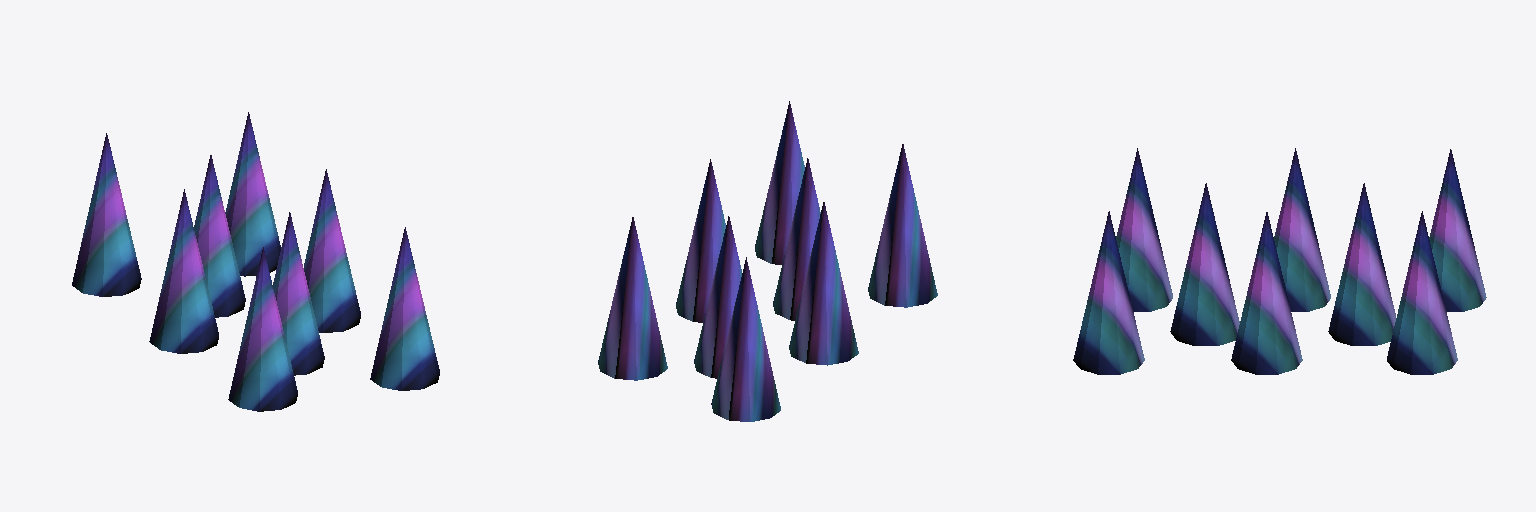
3 views of the same model, side by side, from view 1: azimuth 30°, elevation 25°; view 2: azimuth 150°, elevation 25°; view 3: azimuth 270°, elevation 25° (orthographic).
Parts seen in each view (by area): view 1: Spike.001, Spike.006, Spike.007, Spike.003, Spike.002, Spike.004, Spike, Spike.005; view 2: Spike.003, Spike.001, Spike.004, Spike.006, Spike.007, Spike.002, Spike, Spike.005; view 3: Spike.007, Spike.002, Spike.004, Spike.005, Spike, Spike.001, Spike.003, Spike.006.
Boxes of the visible parts, x1=… form: Spike.001: x1=149, y1=189, x2=218, y2=353; Spike.006: x1=228, y1=247, x2=297, y2=411; Spike.007: x1=370, y1=227, x2=439, y2=390; Spike.003: x1=72, y1=133, x2=141, y2=296; Spike.002: x1=304, y1=169, x2=360, y2=332; Spike.004: x1=225, y1=112, x2=280, y2=276; Spike: x1=194, y1=155, x2=245, y2=317; Spike.005: x1=273, y1=212, x2=324, y2=375; Spike.003: x1=711, y1=257, x2=780, y2=421; Spike.001: x1=789, y1=202, x2=858, y2=365; Spike.004: x1=598, y1=217, x2=667, y2=380; Spike.006: x1=868, y1=144, x2=937, y2=307; Spike.007: x1=755, y1=101, x2=804, y2=264; Spike.002: x1=676, y1=159, x2=725, y2=322; Spike: x1=694, y1=216, x2=741, y2=378; Spike.005: x1=773, y1=158, x2=820, y2=320; Spike.007: x1=1073, y1=211, x2=1144, y2=374; Spike.002: x1=1231, y1=212, x2=1302, y2=374; Spike.004: x1=1387, y1=211, x2=1457, y2=374; Spike.005: x1=1170, y1=183, x2=1239, y2=345; Spike: x1=1328, y1=183, x2=1395, y2=345; Spike.001: x1=1274, y1=148, x2=1330, y2=311; Spike.003: x1=1429, y1=149, x2=1486, y2=311; Spike.006: x1=1116, y1=148, x2=1172, y2=311.
Bounding box in the file's own units: 6.01 × 4.77 × 11.53.
1 materials, 1 textured.